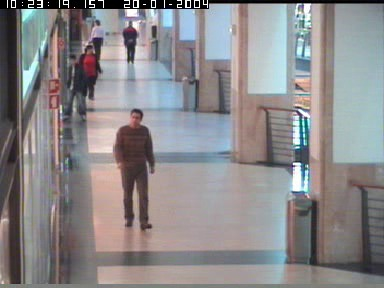person: (113, 106, 154, 229), (60, 53, 86, 120), (76, 45, 102, 99), (86, 20, 106, 62), (123, 21, 138, 63), (149, 8, 160, 39)
